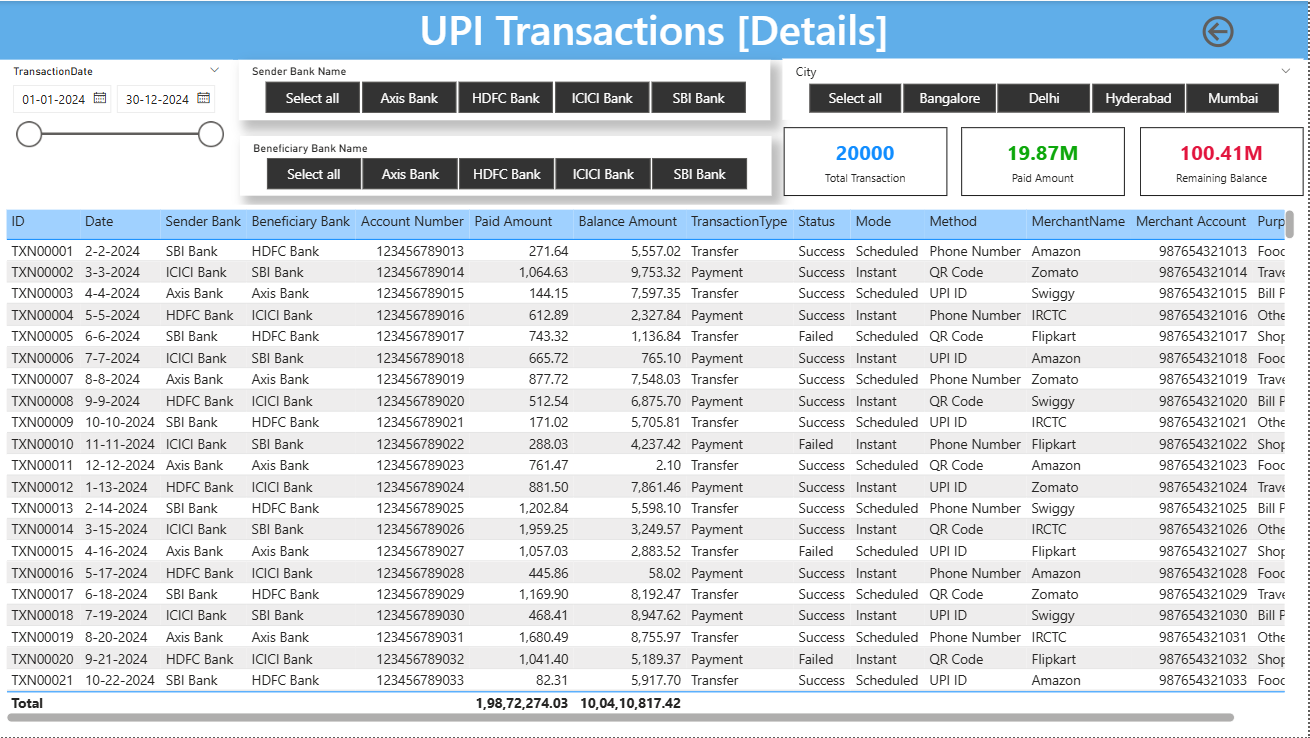

This screenshot's page, from the dashboard's own definition file:
{"tool":"powerbi","page":{"name":"Details","canvas":[1280,720],"ordinal":4},"visuals":[{"type":"textbox","title":"UPI Transactions [Details]","box":[0,0,1280.3,57.5],"z":0},{"type":"slicer","fields":{"Values":["Sheet1.TransactionDate"]},"box":[0,57.5,227.4,149.2],"z":1000},{"type":"slicer","fields":{"Values":["Sheet1.BankNameSent"]},"box":[234,58,520,59],"z":2000},{"type":"slicer","fields":{"Values":["Sheet1.BankNameReceived"]},"box":[234.8,132.1,519.7,58.7],"z":3000},{"type":"slicer","fields":{"Values":["Sheet1.City"]},"box":[765.5,56.3,509.9,59.9],"z":4000},{"type":"card","fields":{"Values":["Count(Sheet1.TransactionID)"]},"box":[766.7,123.5,160.2,67.3],"z":5000},{"type":"card","fields":{"Values":["Sum(Sheet1.Amount)"]},"box":[940.4,123.5,160.2,67.3],"z":6000},{"type":"card","fields":{"Values":["Sum(Sheet1.RemainingBalance)"]},"box":[1115.2,123.5,160.2,67.3],"z":7000},{"type":"actionButton","box":[1171.5,9.8,100.3,40.4],"z":8000},{"type":"tableEx","fields":{"Values":["Sheet1.TransactionID","Sheet1.TransactionDate","Sheet1.BankNameSent","Sheet1.BankNameReceived","Sheet1.CustomerAccountNumber","Sum(Sheet1.Amount)","Sum(Sheet1.RemainingBalance)","Sheet1.TransactionType","Sheet1.Status","Sheet1.PaymentMode","Sheet1.PaymentMethod","Sheet1.MerchantName"]},"box":[0,199,1271,511],"z":9000}]}

Visuals, with their boxes in screenshot pixels (x1, y1, x2, y2), scaled from the page's 1280x720 canvas onto the 1310x738 screenshot:
"UPI Transactions [Details]" textbox: box(0, 0, 1309, 59)
slicer - Sheet1.TransactionDate: box(0, 59, 233, 212)
slicer - Sheet1.BankNameSent: box(239, 59, 772, 120)
slicer - Sheet1.BankNameReceived: box(240, 135, 772, 196)
slicer - Sheet1.City: box(783, 58, 1305, 119)
card - Count(Sheet1.TransactionID): box(785, 127, 949, 196)
card - Sum(Sheet1.Amount): box(962, 127, 1126, 196)
card - Sum(Sheet1.RemainingBalance): box(1141, 127, 1305, 196)
actionButton: box(1199, 10, 1302, 51)
tableEx - Sheet1.TransactionID x Sheet1.TransactionDate: box(0, 204, 1301, 728)
